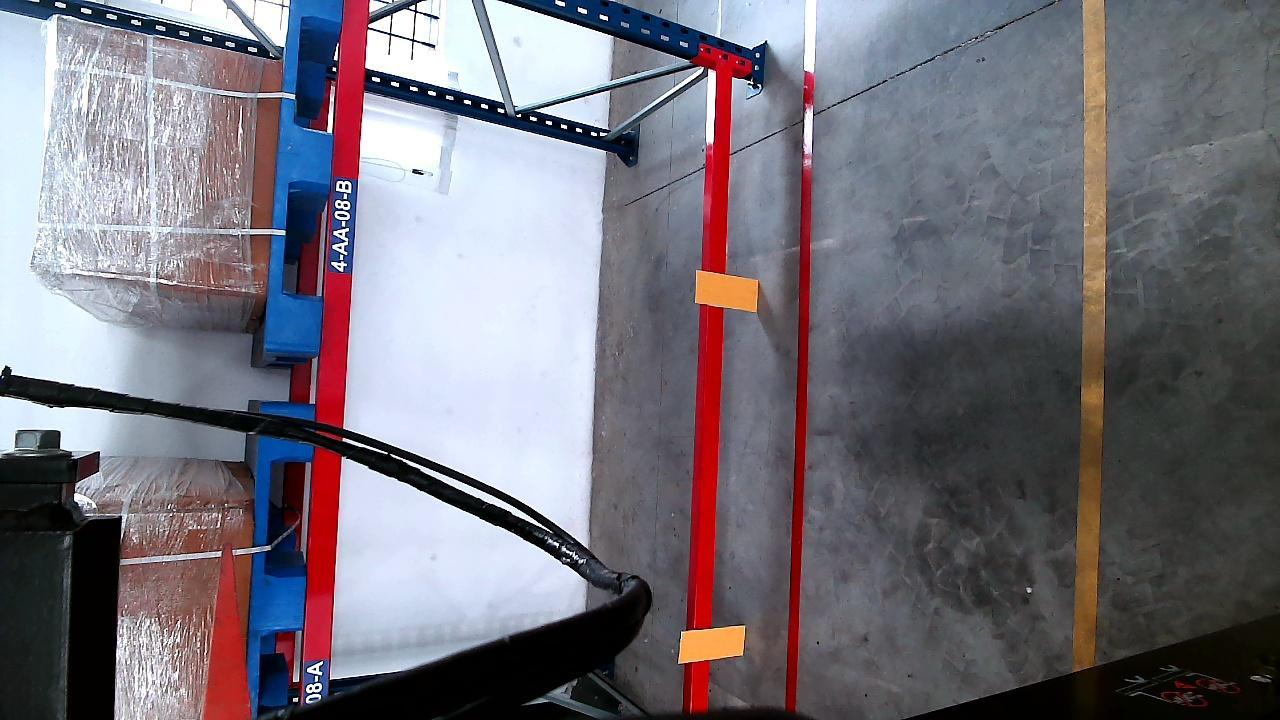red_line: (783, 0, 816, 711)
yellow_line: (1077, 0, 1102, 672)
